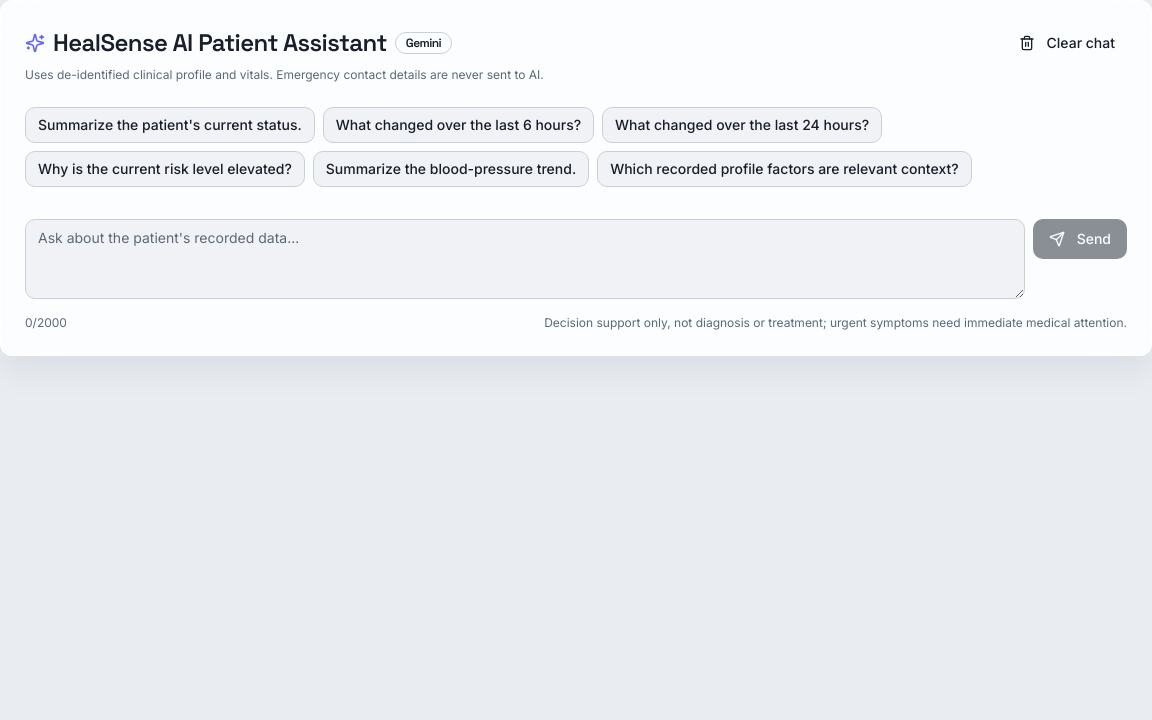
Scenario: AI helpers and safe rendering › maps AI error classes without exposing raw details
This screenshot has width=1152, height=720.
Type "test" into the text box with placeholder "Ask about the patient's recorded data..." at (525, 259), box [25, 219, 1025, 299]
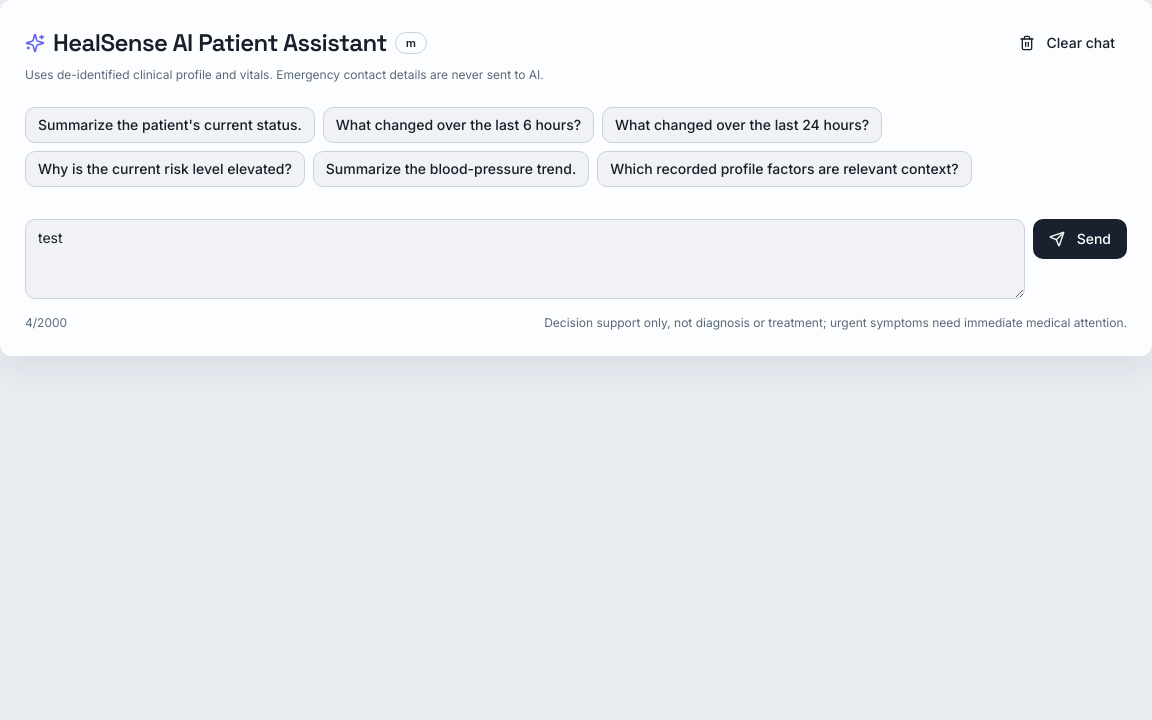
Click the button "Send" at (1080, 239), box [1033, 219, 1127, 259]
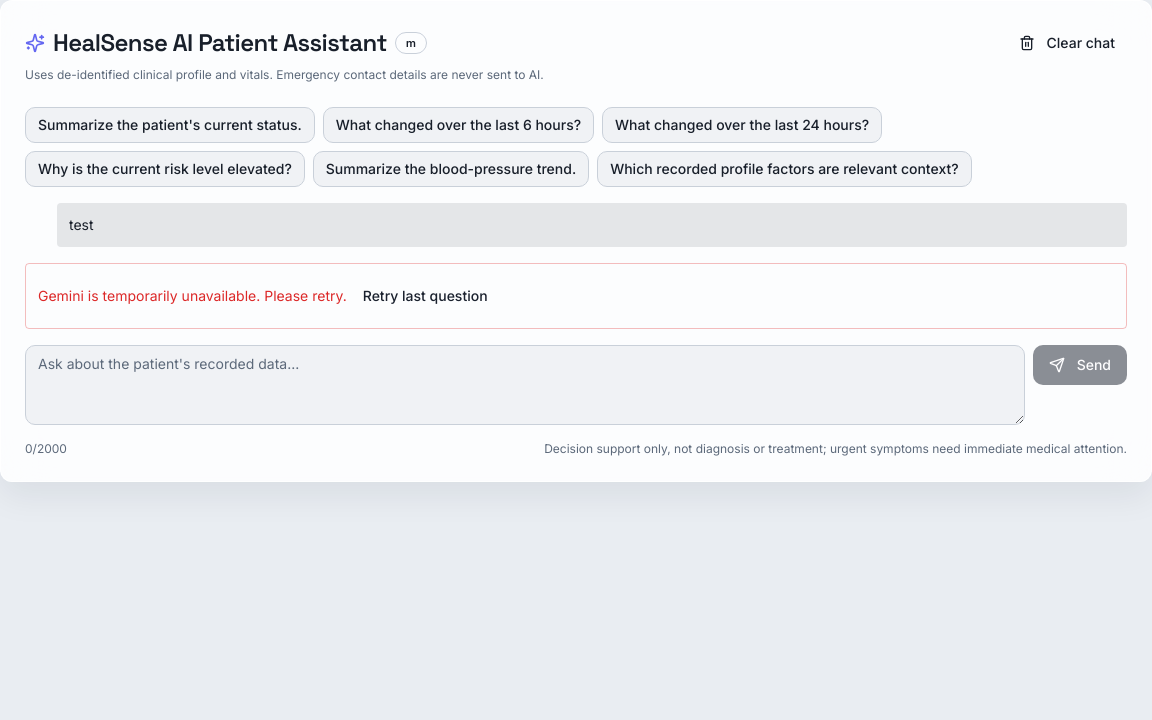
Now the text "Gemini is temporarily unavailable" is shown, box [38, 287, 347, 304]
